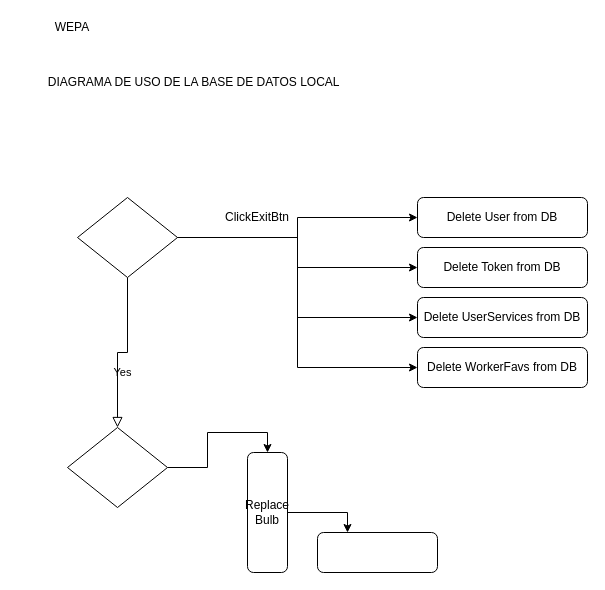
Image size: 605x590. Some labels were removed from this diagram. The centre of each missing label's shape, as x and y in pixels:
HomeFragment: (117,467)
MainActivity: (127,237)
Repair Lamp: (377,552)
